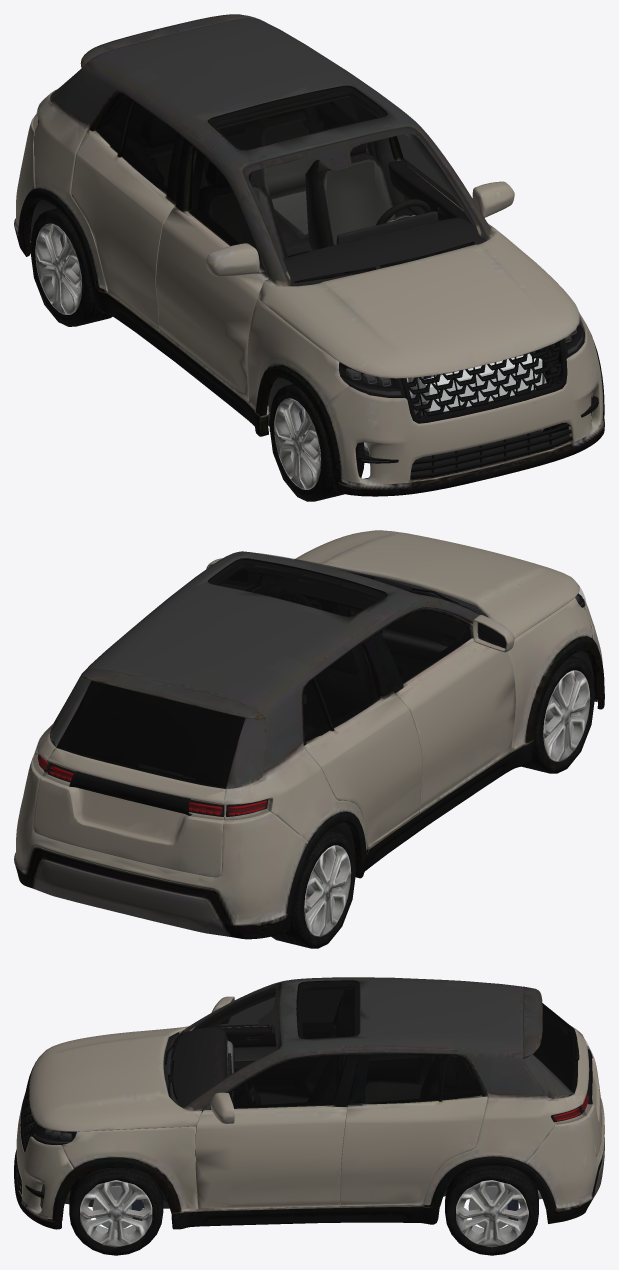
The model's file is hero-suv.glb.
3 views of the same model, one above another, from view 1: azimuth 30°, elevation 25°; view 2: azimuth 150°, elevation 25°; view 3: azimuth 270°, elevation 25° (orthographic). The views are drawn at different scales.
Visible parts, largest first — view 1: fender-front-arch-right_body_0, taillight-body-cover-right_glass-headlight-cover_0, seat-front-left_interior_0, taillight-body-back-right_black-plastic-glossy_0, brake-caliper-fl_wheels-brakes_0, tire-low-fl_tire-low_0, spring-damper-front-left_mechanics-chassis_0, engine-low_engine_0; view 2: fender-front-arch-right_body_0, taillight-body-cover-right_glass-headlight-cover_0, seat-front-left_interior_0, brake-caliper-fl_wheels-brakes_0, taillight-body-back-right_black-plastic-glossy_0, tire-low-fl_tire-low_0; view 3: fender-front-arch-right_body_0, taillight-body-cover-right_glass-headlight-cover_0, seat-front-left_interior_0, brake-caliper-fl_wheels-brakes_0, tire-low-fl_tire-low_0, taillight-body-back-right_black-plastic-glossy_0.
Boxes of the visible parts, left/top/right/bottom form: fender-front-arch-right_body_0: left=14, top=14, right=604, bottom=496; taillight-body-cover-right_glass-headlight-cover_0: left=33, top=85, right=585, bottom=397; seat-front-left_interior_0: left=98, top=92, right=486, bottom=286; taillight-body-back-right_black-plastic-glossy_0: left=37, top=119, right=598, bottom=479; brake-caliper-fl_wheels-brakes_0: left=35, top=223, right=543, bottom=489; tire-low-fl_tire-low_0: left=30, top=208, right=592, bottom=501; spring-damper-front-left_mechanics-chassis_0: left=30, top=199, right=569, bottom=479; engine-low_engine_0: left=406, top=353, right=542, bottom=411; fender-front-arch-right_body_0: left=14, top=530, right=604, bottom=939; taillight-body-cover-right_glass-headlight-cover_0: left=33, top=552, right=585, bottom=820; seat-front-left_interior_0: left=215, top=564, right=469, bottom=802; brake-caliper-fl_wheels-brakes_0: left=304, top=670, right=590, bottom=936; taillight-body-back-right_black-plastic-glossy_0: left=37, top=565, right=584, bottom=816; tire-low-fl_tire-low_0: left=271, top=656, right=595, bottom=948; fender-front-arch-right_body_0: left=14, top=977, right=604, bottom=1229; taillight-body-cover-right_glass-headlight-cover_0: left=31, top=980, right=592, bottom=1144; seat-front-left_interior_0: left=132, top=985, right=554, bottom=1190; brake-caliper-fl_wheels-brakes_0: left=80, top=1180, right=528, bottom=1247; tire-low-fl_tire-low_0: left=69, top=1165, right=538, bottom=1255; taillight-body-back-right_black-plastic-glossy_0: left=17, top=1001, right=592, bottom=1198.
Size of the model in its own units: 1.95 by 1.56 by 4.19.
8 materials, 8 textured.
